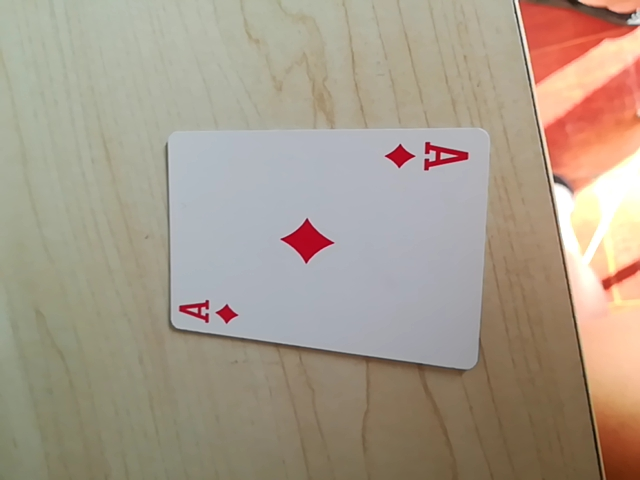fk a: (383, 138, 469, 176), (174, 295, 244, 329)
